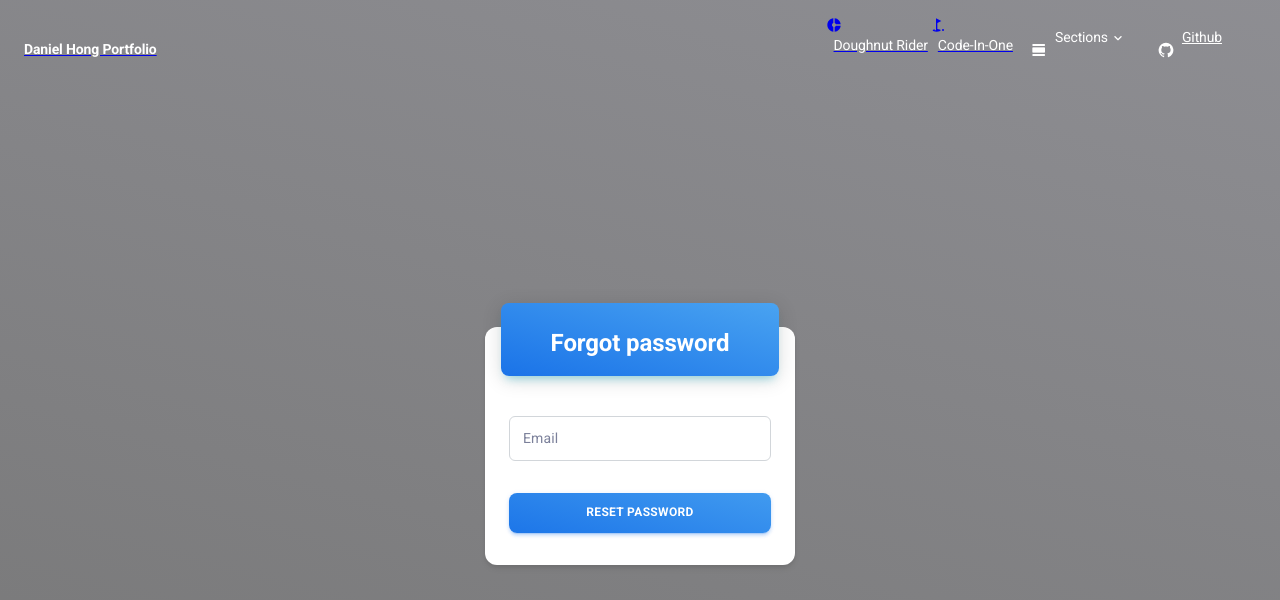
Test: ForgotPasword › validates email address
// Add a bogus email address
In the field labelled "Email": (640,438) [509,416,771,460], type "hello"
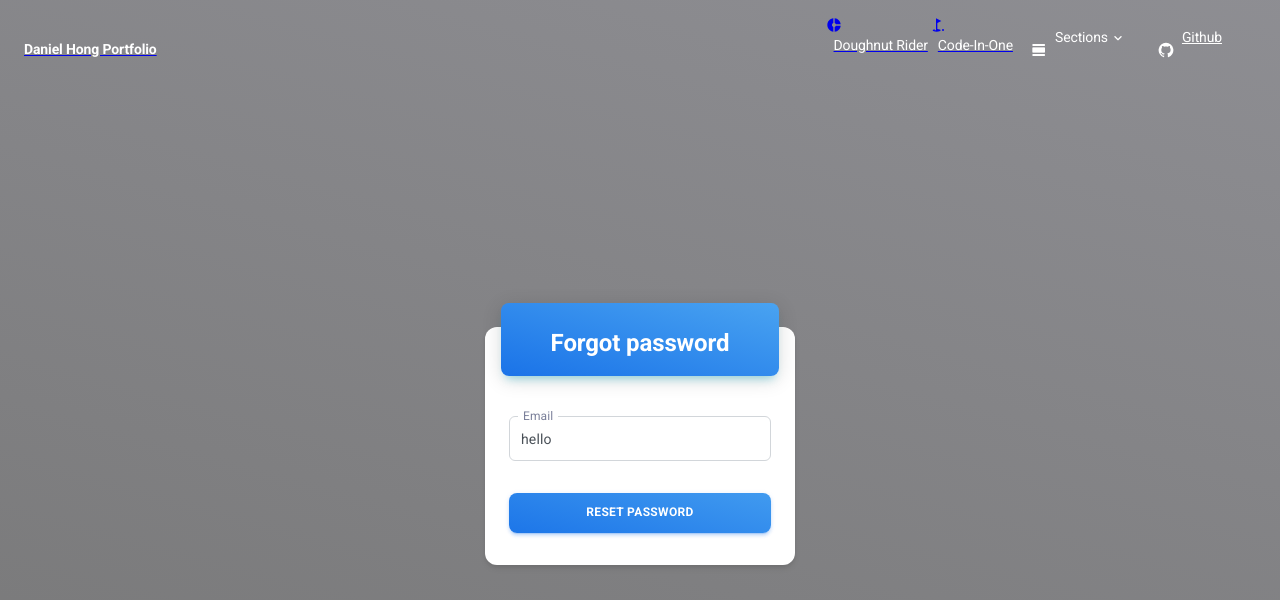
Click the button "reset password": (640,513) [509,493,771,533]
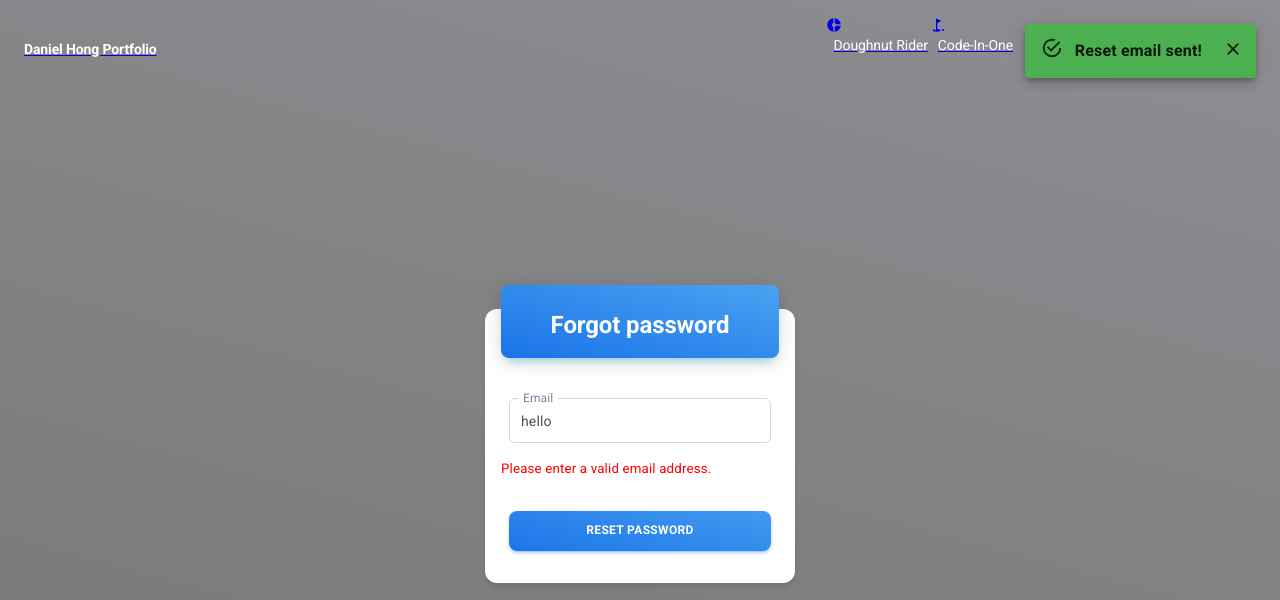
expect the text "Please enter a valid email address." is shown: met, box [501,459,711,479]
